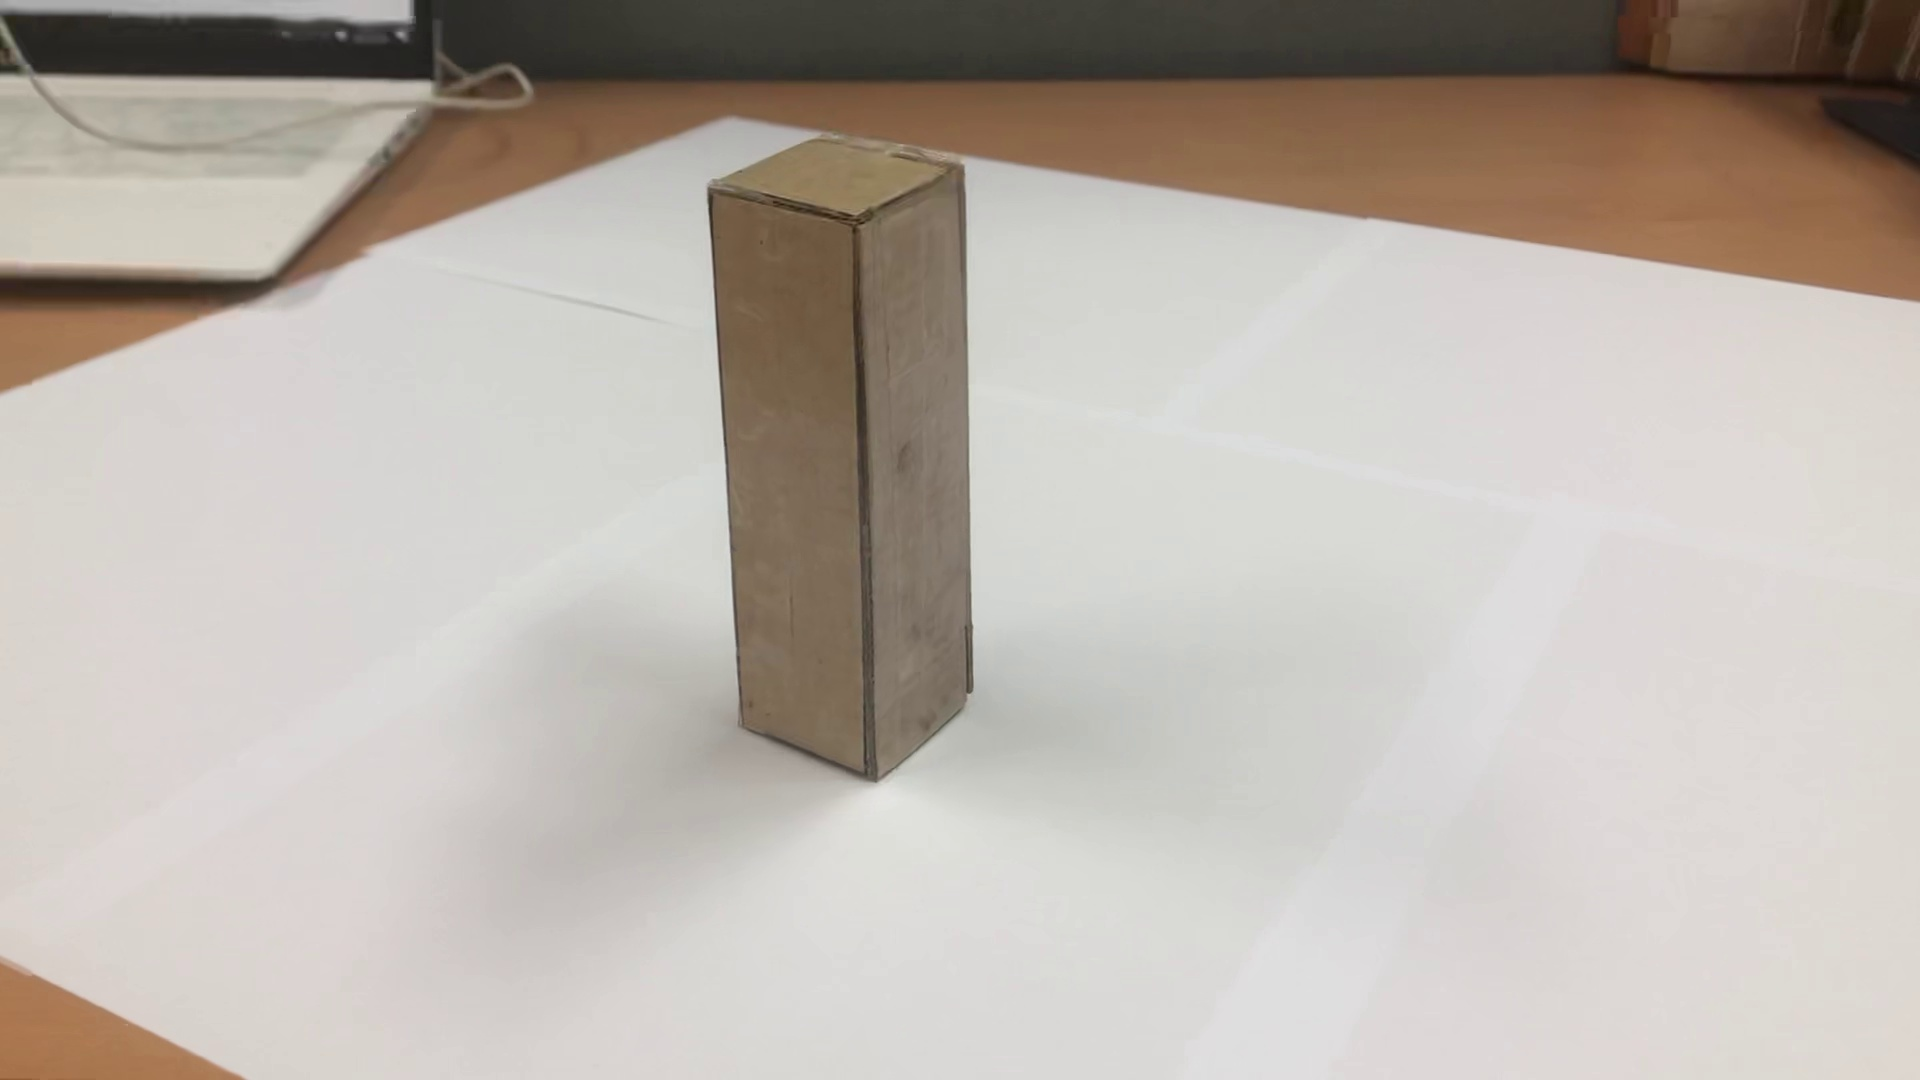box: (676, 127, 1038, 827)
